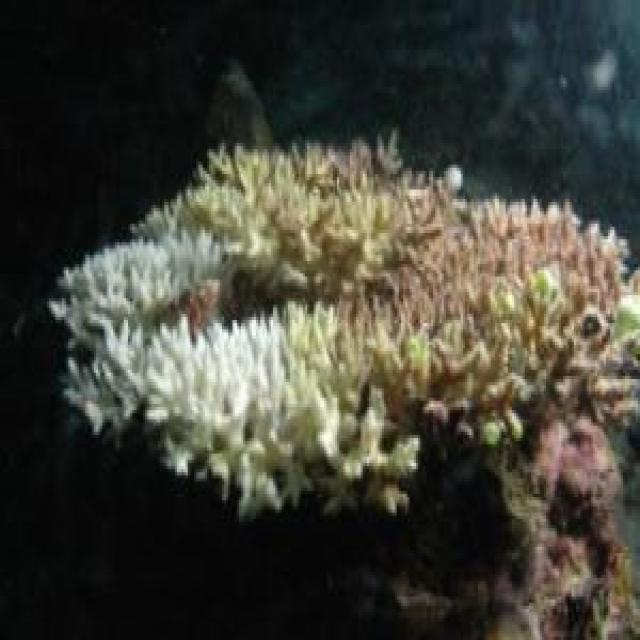bleached coral: (239, 391, 326, 510), (60, 267, 132, 388), (141, 357, 247, 435), (126, 230, 215, 295), (252, 317, 301, 413)
healthy coral: (429, 211, 625, 314), (548, 423, 614, 600), (196, 155, 320, 242), (294, 304, 431, 382), (497, 286, 574, 416), (311, 186, 418, 258)
